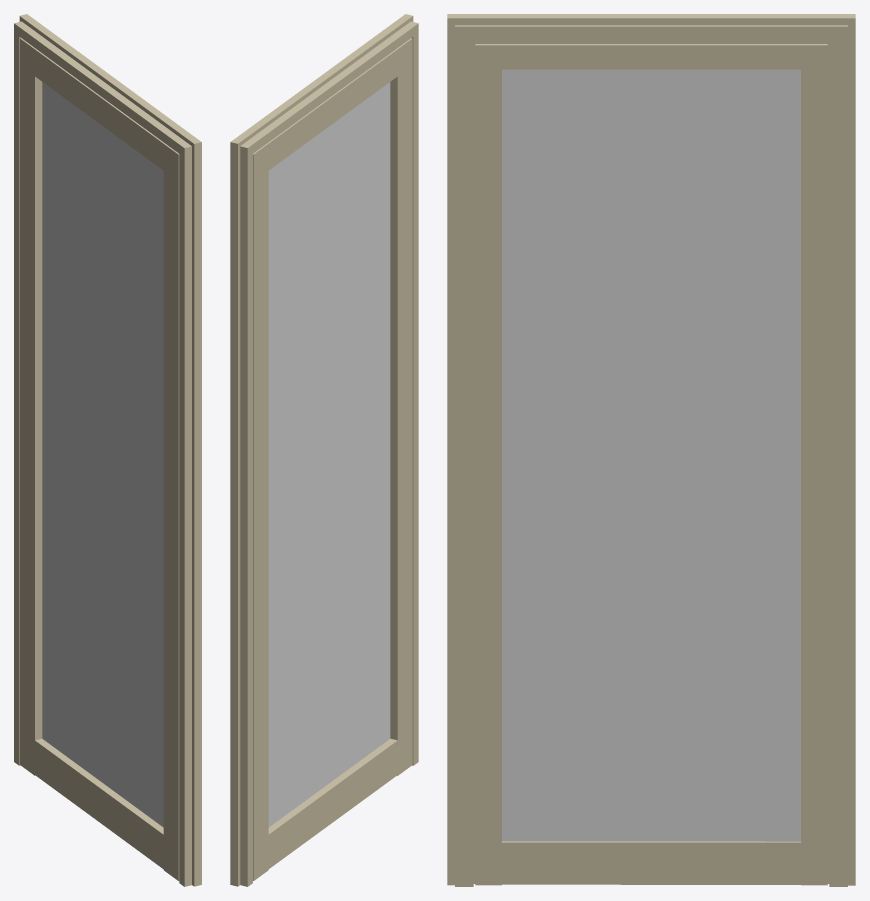
The model's file is MainDoor1Transformed1.fbx.
The picture shows the model from 3 angles, left to right: view 1: azimuth 30°, elevation 25°; view 2: azimuth 150°, elevation 25°; view 3: azimuth 270°, elevation 25°; orthographic projection. The views are drawn at different scales.
Visible parts, largest first — view 1: 45-25-28-344_- Aluminium Glazed Single Door (EDT 09):EDT 09(; view 2: 45-25-28-344_- Aluminium Glazed Single Door (EDT 09):EDT 09(; view 3: 45-25-28-344_- Aluminium Glazed Single Door (EDT 09):EDT 09(.
Part boxes in pixels (bbox=[...]): 45-25-28-344_- Aluminium Glazed Single Door (EDT 09):EDT 09(: bbox=[14, 14, 201, 886]; 45-25-28-344_- Aluminium Glazed Single Door (EDT 09):EDT 09(: bbox=[230, 14, 418, 886]; 45-25-28-344_- Aluminium Glazed Single Door (EDT 09):EDT 09(: bbox=[447, 14, 855, 886].
Size of the model in its own units: 0.0657 by 2.61 by 1.12.
